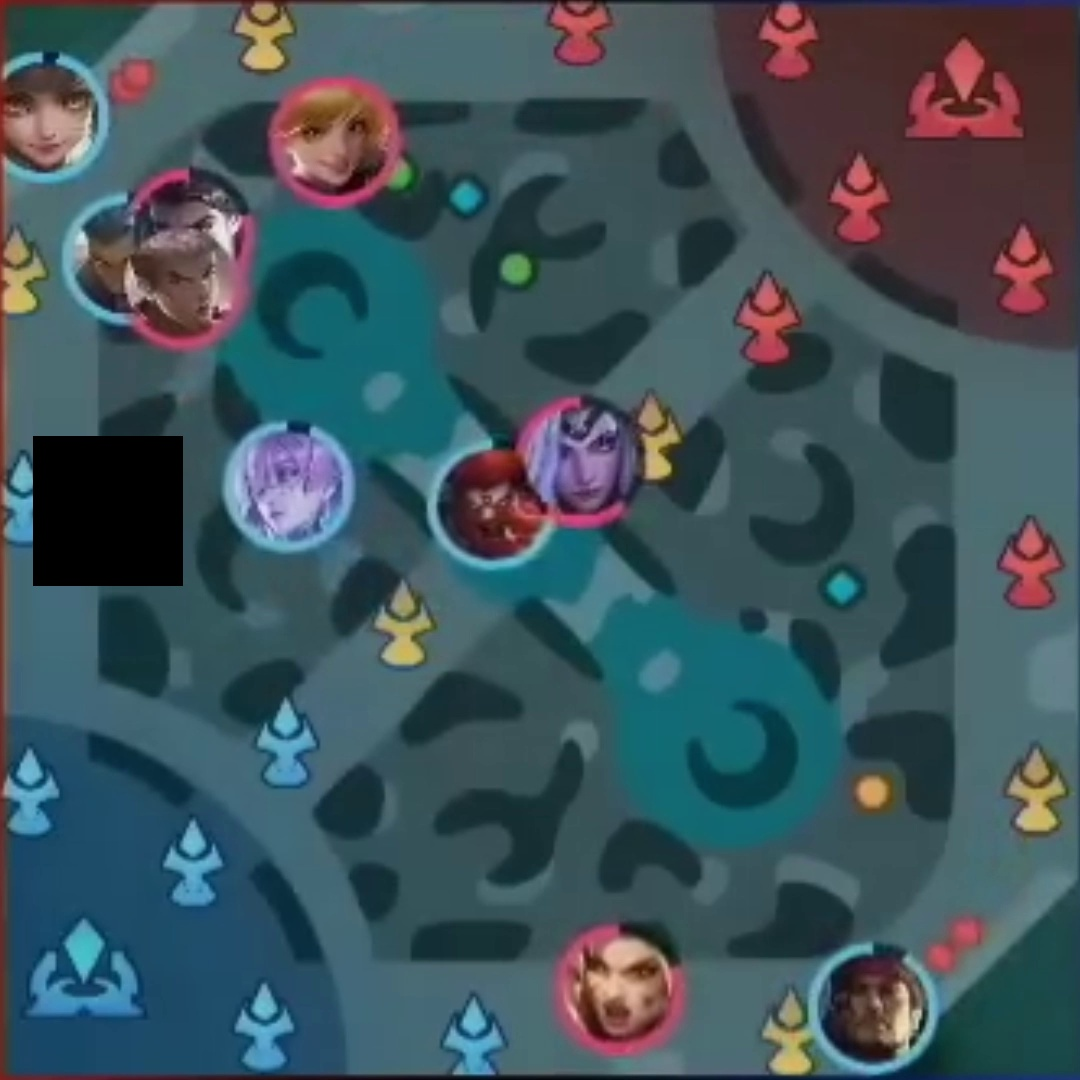Chou: (132, 236, 237, 335)
Fanny: (284, 87, 398, 197)
Fredrinn: (62, 200, 129, 317)
Lapu-Lapu: (825, 954, 920, 1054)
Masha: (569, 932, 677, 1050)
Minotaur: (436, 452, 542, 552)
Novaria: (229, 436, 349, 539)
Valentina: (526, 404, 639, 514)
Wanwan: (1, 61, 98, 175)
